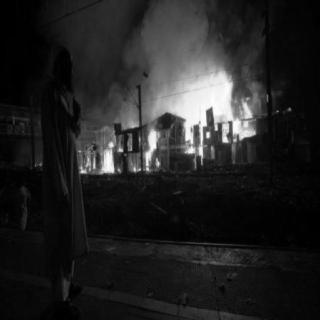Fire: (79, 81, 257, 173)
